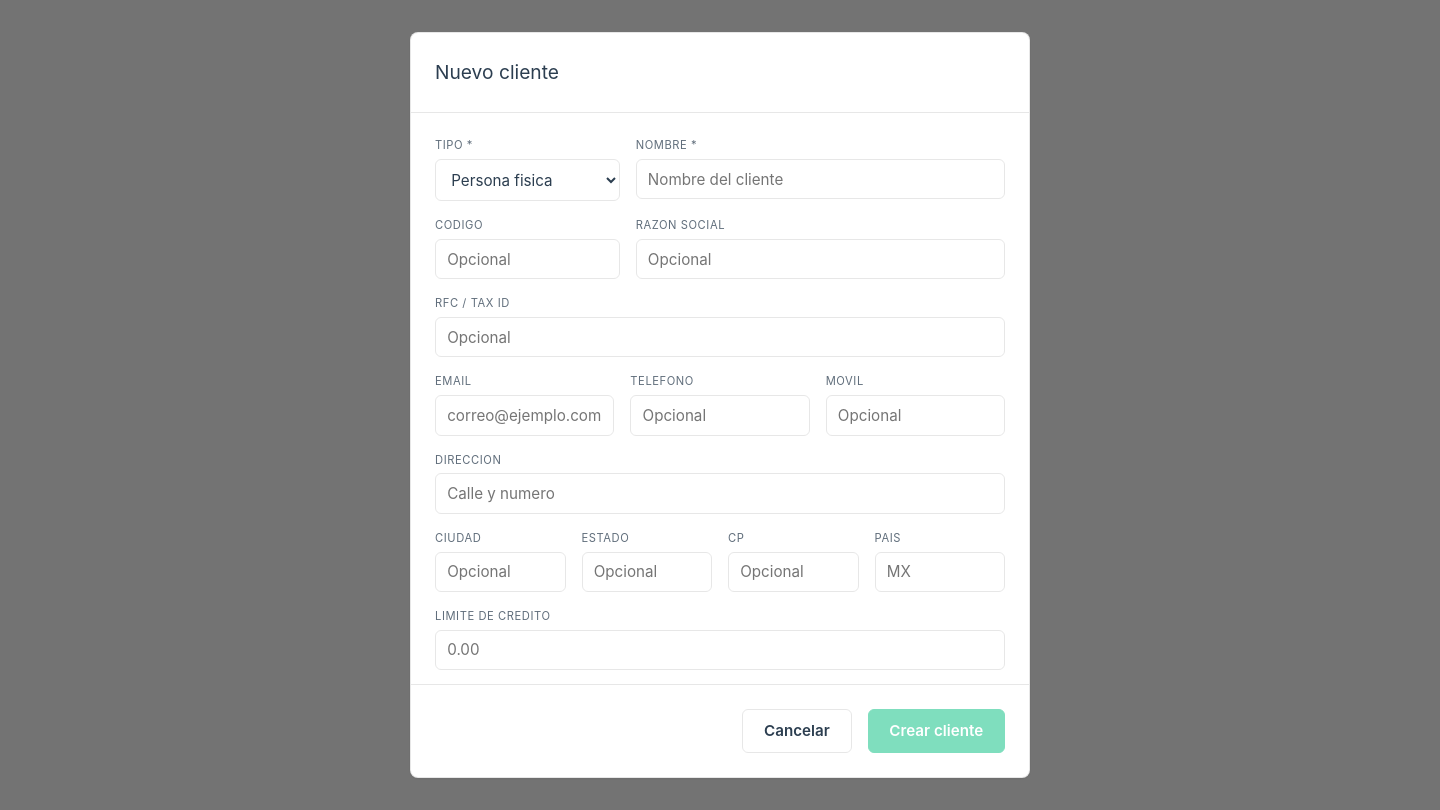
Test: CustomerFormModal › muestra error y no guarda si el limite de credito es invalido
The width and height of the screenshot is (1440, 810).
Type "Cliente" into the field with id "c-name" at (820, 179), box left=636, top=159, right=1005, bottom=199
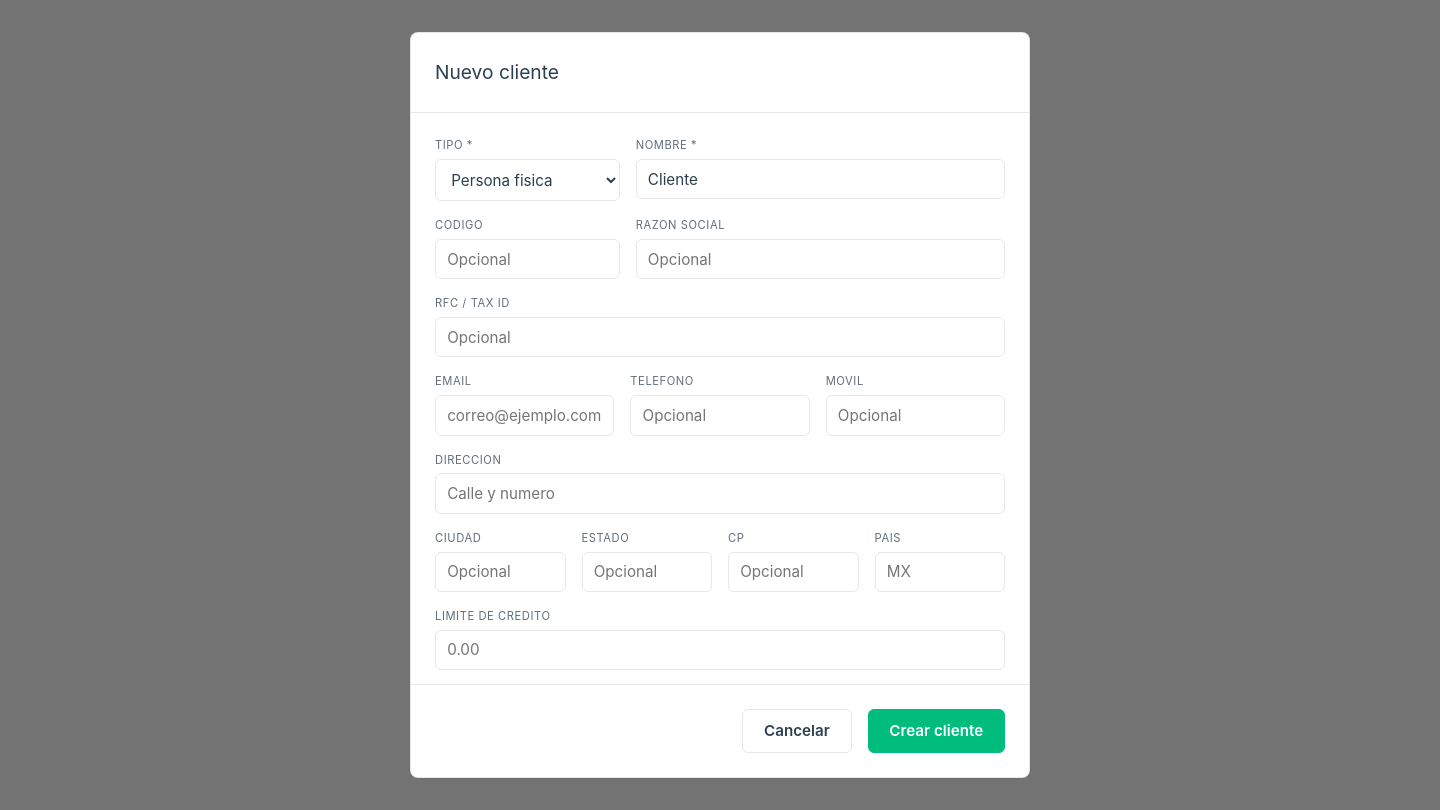
Type "-100" into the field with id "c-credit" at (720, 650), box left=435, top=630, right=1005, bottom=670
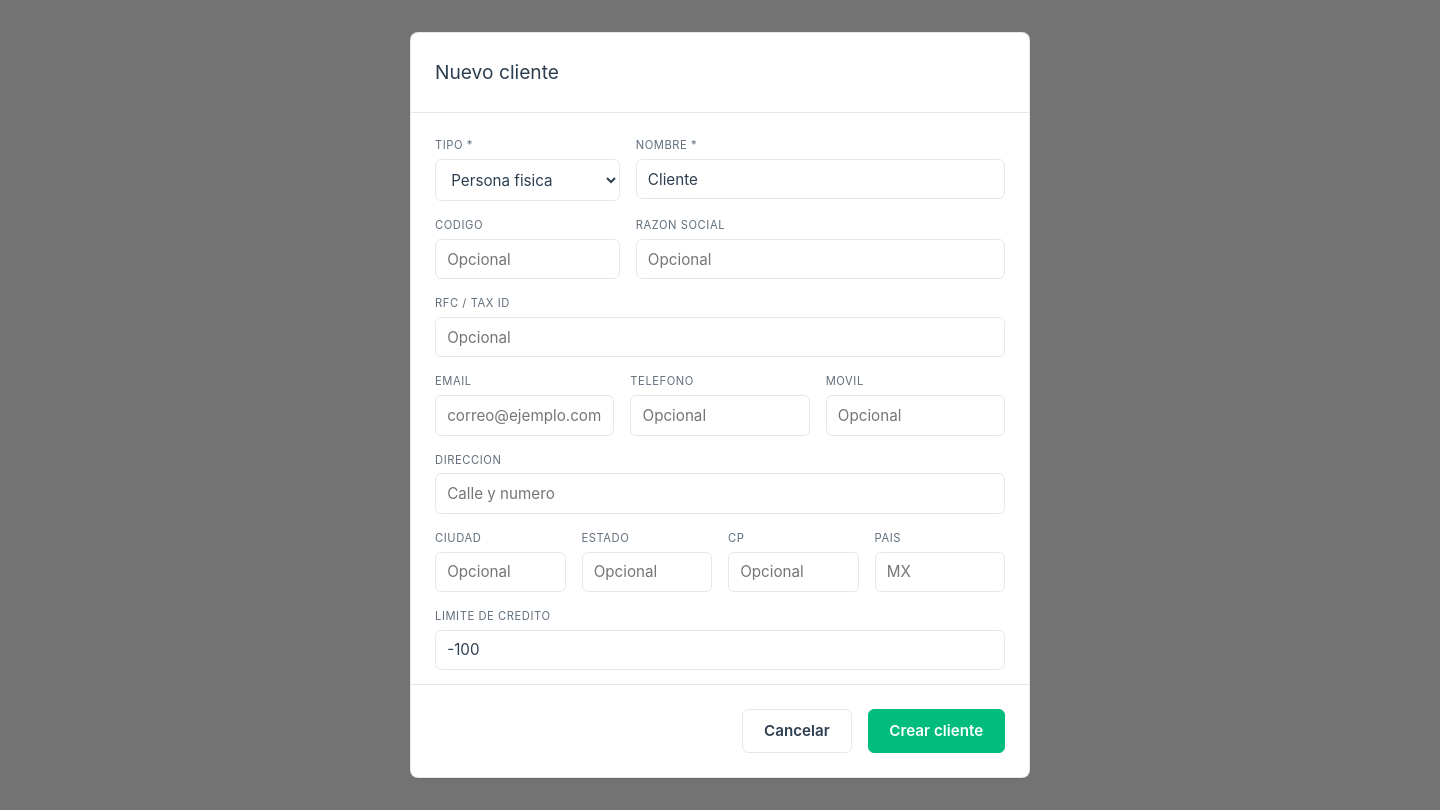
Click the button with class "cust-modal__btn--save" at (936, 731), box left=868, top=709, right=1005, bottom=753
(page scrolled)
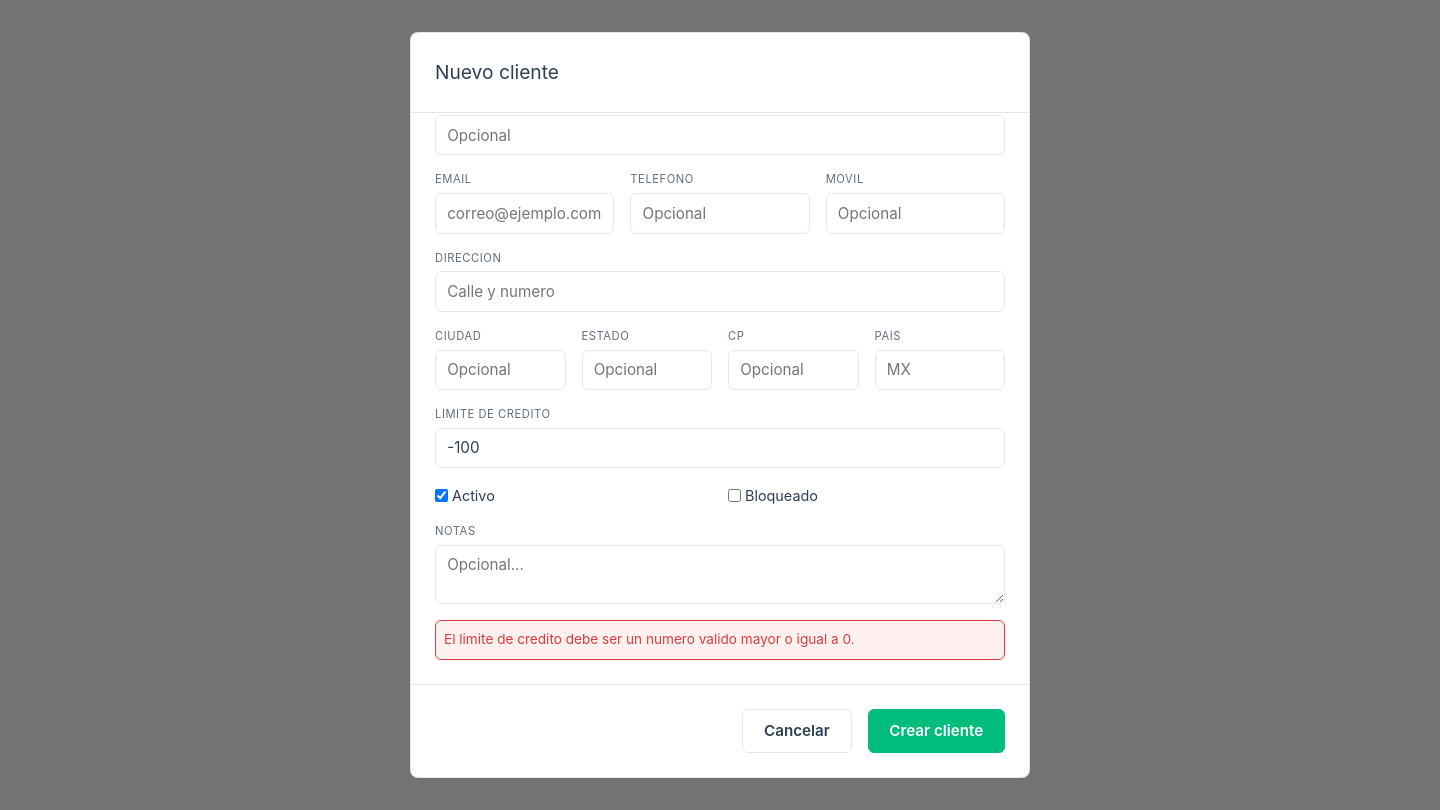
Expected: the text with class "cust-modal__error" is shown, left=435, top=620, right=1005, bottom=660
